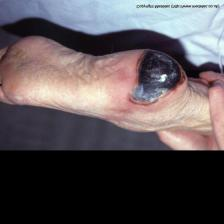Wound: (129, 47, 189, 115)
